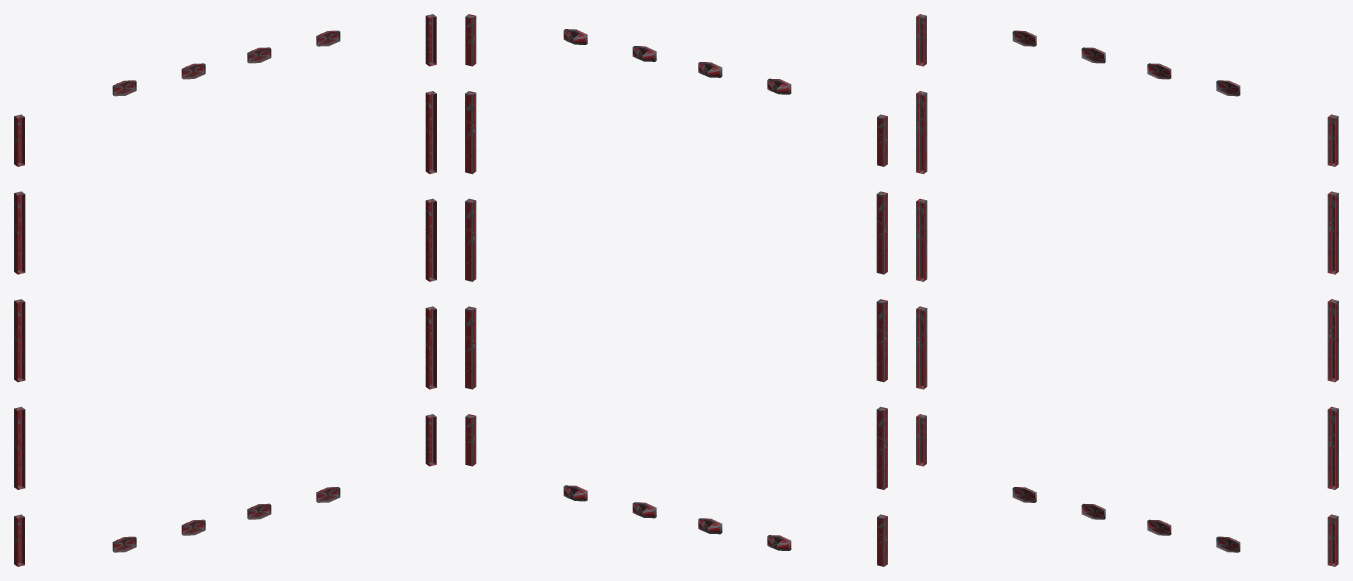
Rendered from CnMainDoorsFrameDet.fbx.
The picture shows the model from 3 angles, left to right: view 1: azimuth 30°, elevation 25°; view 2: azimuth 150°, elevation 25°; view 3: azimuth 330°, elevation 25°; orthographic projection.
Visible parts, largest first — view 1: CnMainDoorsFrameDet; view 2: CnMainDoorsFrameDet; view 3: CnMainDoorsFrameDet.
Part boxes in pixels (left/top/right/bottom): CnMainDoorsFrameDet: left=14, top=14, right=436, bottom=566; CnMainDoorsFrameDet: left=465, top=14, right=887, bottom=566; CnMainDoorsFrameDet: left=916, top=14, right=1338, bottom=566.
Size of the model in its own units: 228 by 245 by 5.21.
